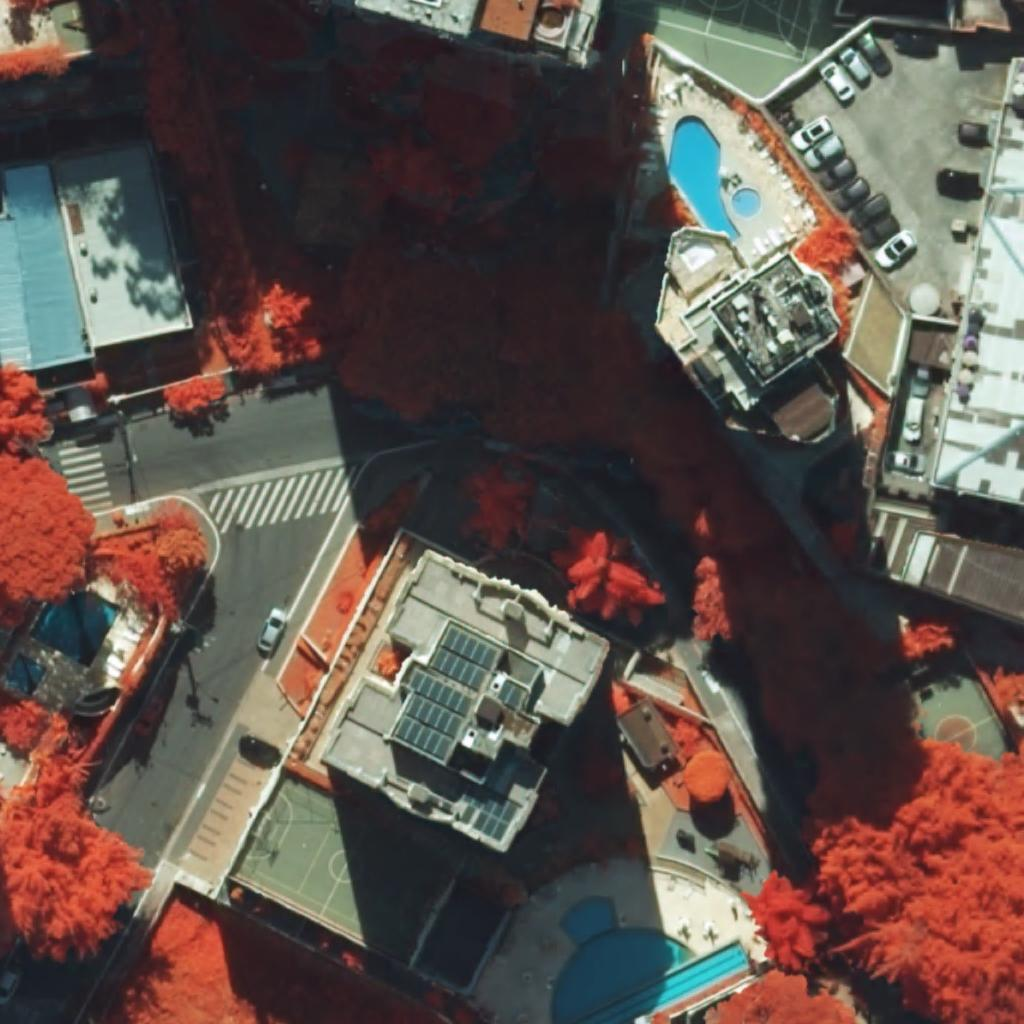pool: (550, 896, 698, 1023), (570, 941, 748, 1023), (668, 115, 740, 243), (28, 591, 122, 670), (6, 653, 47, 696), (732, 188, 761, 217)
